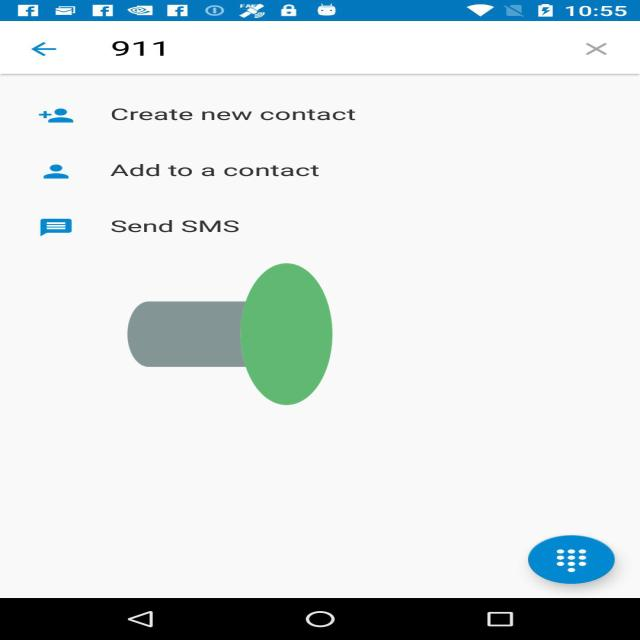social proof: (128, 176, 332, 492)
